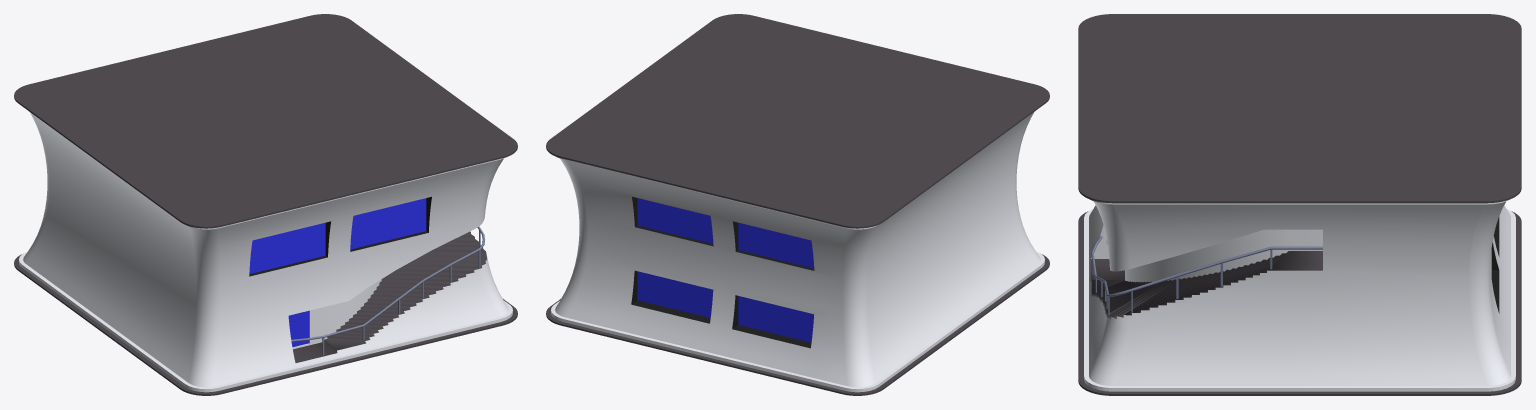
File: SM_B_i10_Mid.fbx
3 renders of one model, left to right at view 1: azimuth 30°, elevation 25°; view 2: azimuth 150°, elevation 25°; view 3: azimuth 270°, elevation 25°, orthographic. The views are drawn at different scales.
Parts seen in each view (by area): view 1: SM_B_i10_Mid; view 2: SM_B_i10_Mid; view 3: SM_B_i10_Mid.
Boxes of the visible parts, box(x1,y1,x2,y2) form: SM_B_i10_Mid: box(14, 14, 517, 395); SM_B_i10_Mid: box(546, 14, 1049, 395); SM_B_i10_Mid: box(1078, 14, 1521, 395).
Size of the model in its own units: 2100 by 1018 by 2100.
